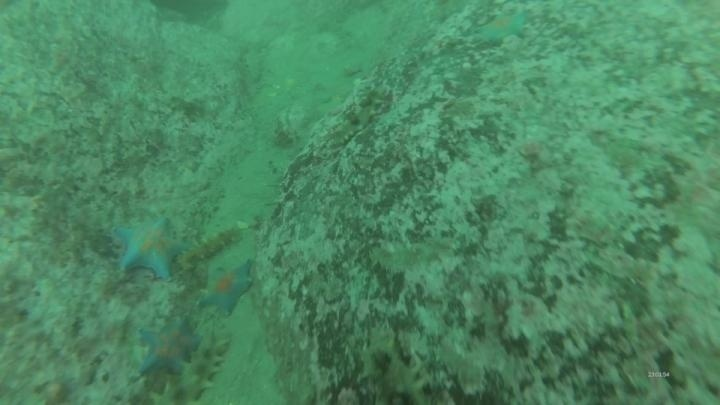holothurian: (354, 324, 434, 404), (324, 80, 390, 151), (175, 328, 232, 403), (179, 223, 245, 267)
starfish: (110, 215, 192, 282), (134, 316, 204, 378), (197, 259, 256, 316), (474, 10, 530, 46)
